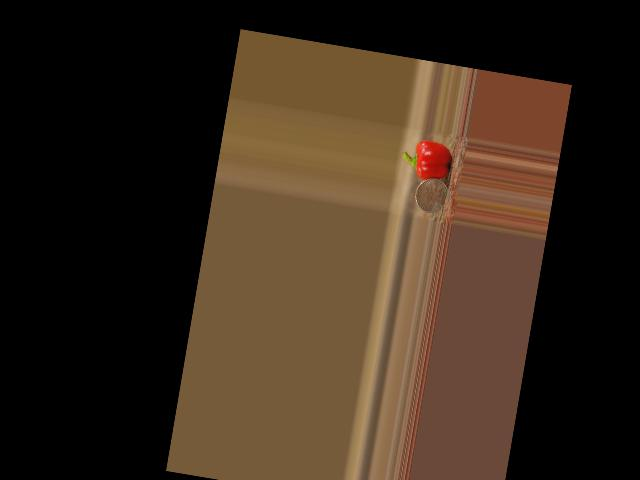bell_pepper: (399, 136, 455, 182)
